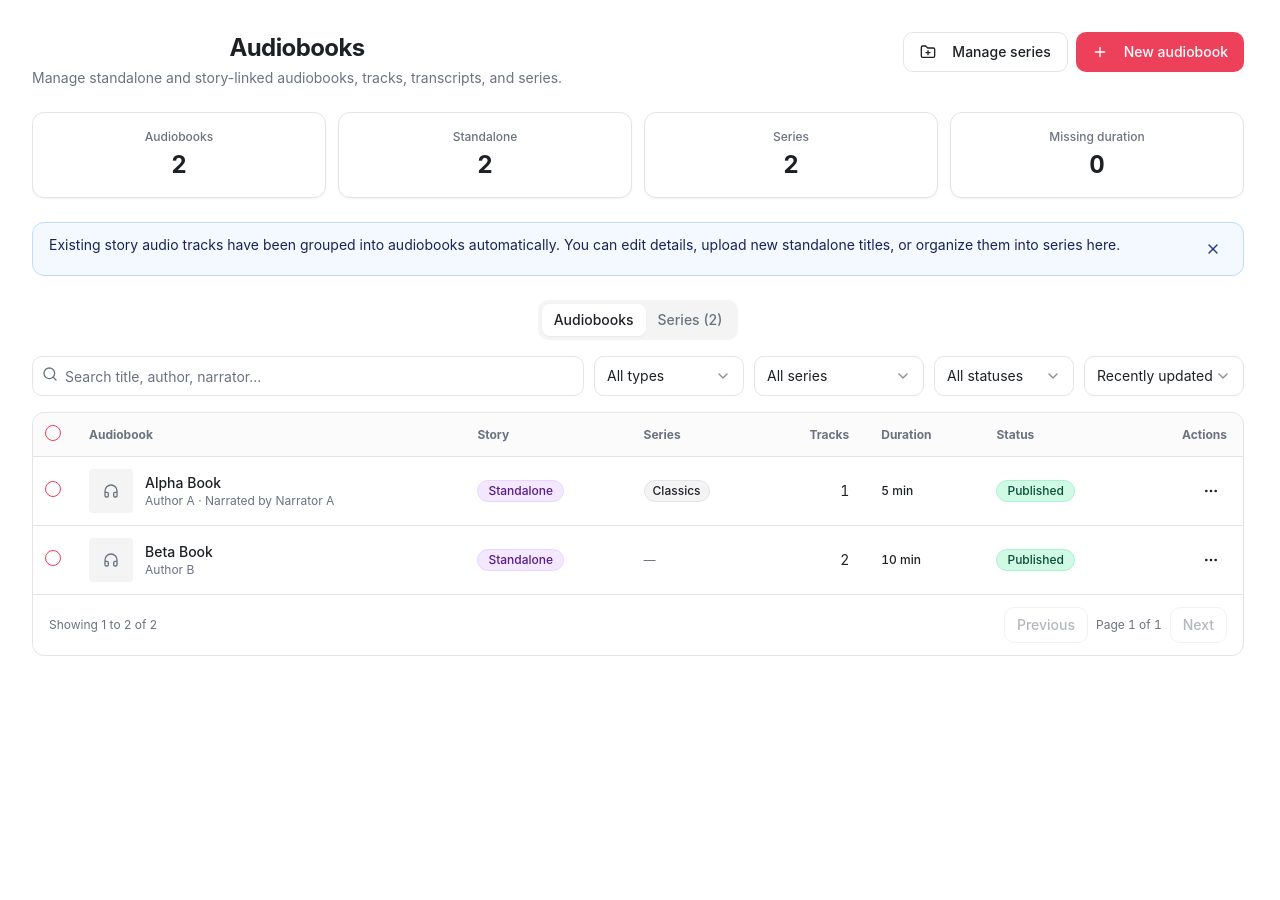
Admin Audiobooks M2M Series UI › shows bulk selection bar on AdminAudiobooks when rows are checked
This screenshot has width=1280, height=900.
Click the checkbox named "Select Alpha Book": (53, 489) [45, 481, 61, 497]
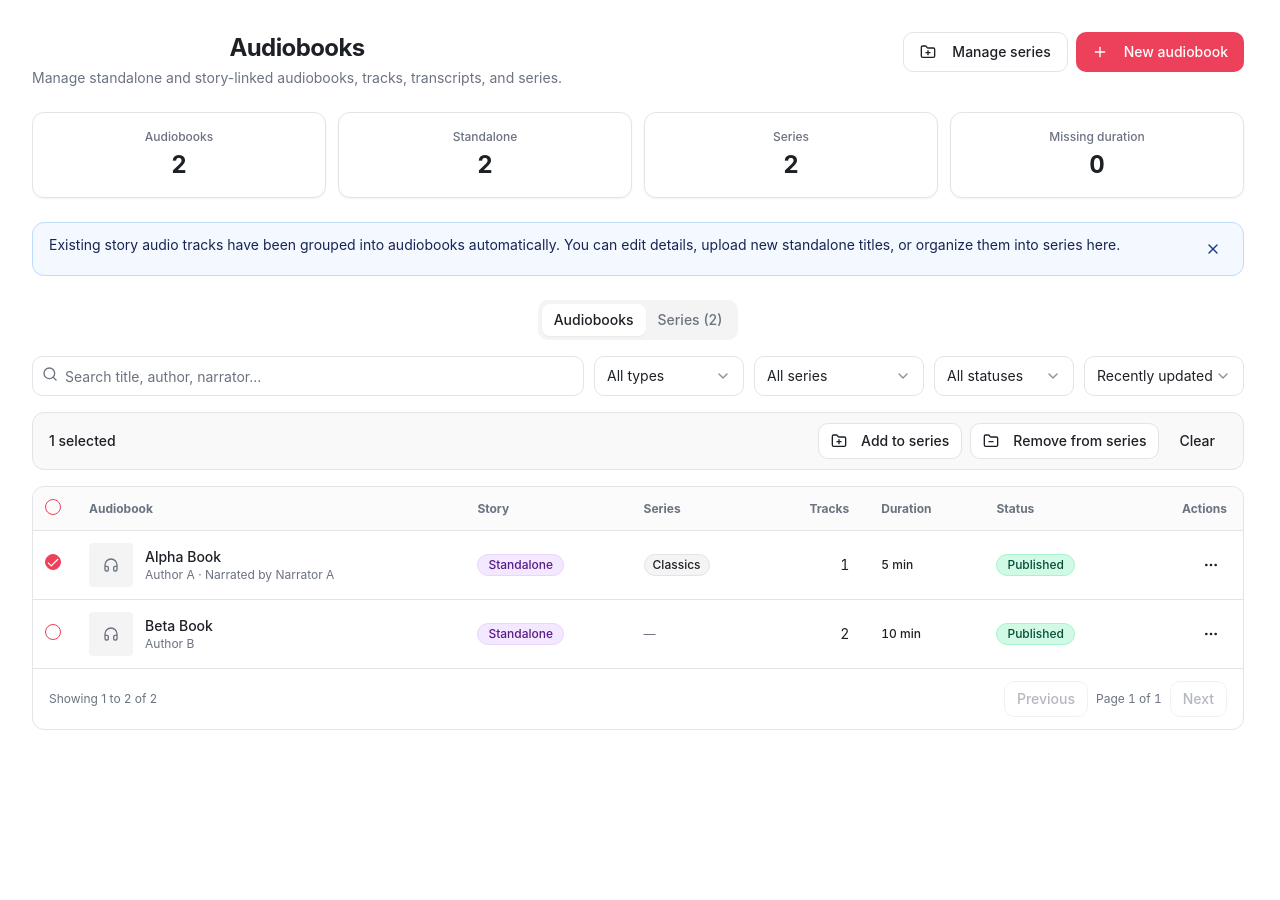
Result: the element named "Bulk selection actions" shows "1 selected" at [32, 412, 1244, 470]
Result: the button "Add to series" is shown at [818, 423, 962, 459]
Result: the button "Remove from series" is shown at [970, 423, 1159, 459]
